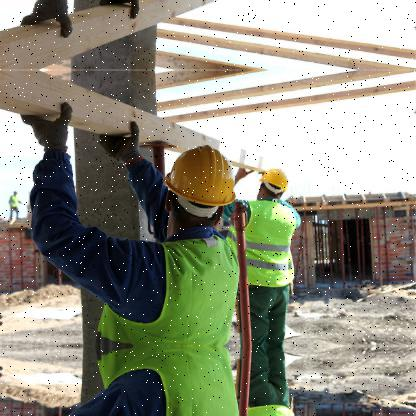helmet: (158, 139, 245, 222), (257, 161, 296, 202)
